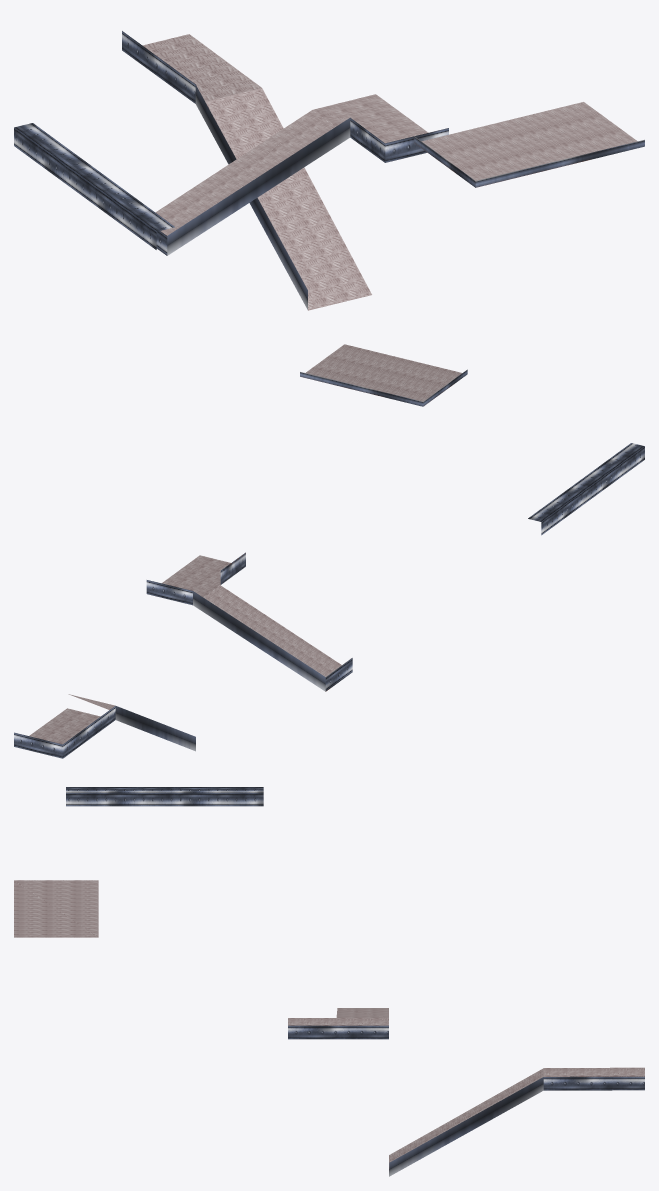
3 views of the same model, one above another, from view 1: azimuth 30°, elevation 25°; view 2: azimuth 150°, elevation 25°; view 3: azimuth 270°, elevation 25° (orthographic). The views are drawn at different scales.
Visible parts, largest first — view 1: Object15; view 2: Object15; view 3: Object15.
Boxes of the visible parts, x1,y1,x2,y2 form: Object15: (14,31,644,310); Object15: (14,344,644,758); Object15: (14,787,644,1176).
Bounding box in the file's own units: 1702 × 1269 × 2966.
Materials: 2 (2 with a texture image).
